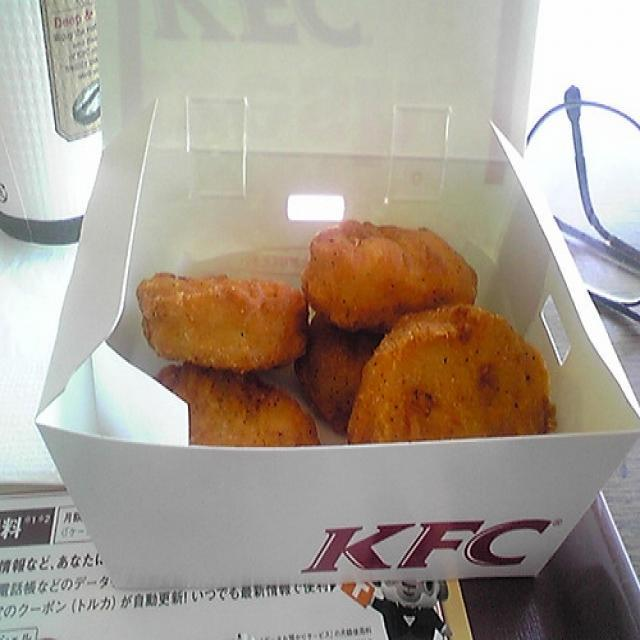Chicken nugget: (72, 172, 575, 570)
